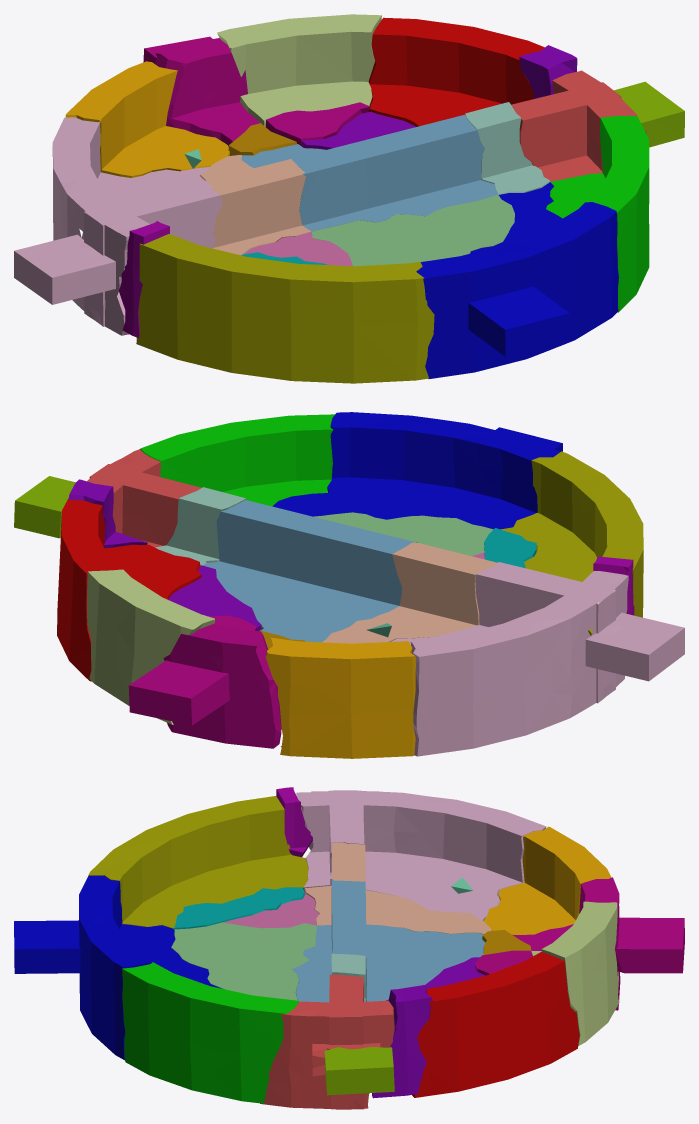
Rendered from fractured_66_23pcs.glb.
3 views of the same model, one above another, from view 1: azimuth 30°, elevation 25°; view 2: azimuth 150°, elevation 25°; view 3: azimuth 270°, elevation 25° (orthographic). The views are drawn at different scales.
Visible parts, largest first — view 1: piece_11.obj, piece_10.obj, piece_6.obj, piece_2.obj, piece_9.obj, piece_5.obj, piece_0.obj, piece_8.obj, piece_3.obj, piece_1.obj, piece_7.obj, piece_15.obj (+8 smaller); view 2: piece_6.obj, piece_10.obj, piece_2.obj, piece_0.obj, piece_15.obj, piece_8.obj, piece_11.obj, piece_5.obj, piece_9.obj, piece_7.obj, piece_1.obj, piece_3.obj (+6 smaller); view 3: piece_6.obj, piece_11.obj, piece_8.obj, piece_9.obj, piece_10.obj, piece_2.obj, piece_1.obj, piece_3.obj, piece_0.obj, piece_5.obj, piece_15.obj, piece_7.obj (+9 smaller).
Boxes of the visible parts, x1,y1,x2,y2 form: piece_11.obj: [136, 234, 434, 383]; piece_10.obj: [416, 182, 618, 379]; piece_6.obj: [14, 117, 222, 335]; piece_2.obj: [241, 114, 497, 231]; piece_9.obj: [368, 17, 544, 126]; piece_5.obj: [217, 14, 381, 126]; piece_0.obj: [65, 61, 229, 177]; piece_8.obj: [546, 115, 649, 312]; piece_3.obj: [312, 194, 514, 266]; piece_1.obj: [511, 70, 646, 181]; piece_7.obj: [200, 155, 311, 255]; piece_15.obj: [143, 36, 260, 145]; piece_6.obj: [391, 562, 684, 756]; piece_10.obj: [272, 412, 562, 529]; piece_2.obj: [203, 500, 417, 642]; piece_0.obj: [265, 637, 415, 758]; piece_15.obj: [128, 624, 281, 748]; piece_8.obj: [140, 414, 334, 506]; piece_11.obj: [500, 451, 643, 635]; piece_5.obj: [86, 569, 214, 724]; piece_9.obj: [57, 498, 201, 681]; piece_7.obj: [322, 542, 497, 643]; piece_1.obj: [87, 449, 201, 547]; piece_3.obj: [314, 512, 493, 556]; piece_6.obj: [296, 790, 546, 920]; piece_11.obj: [88, 796, 308, 928]; piece_8.obj: [122, 962, 298, 1103]; piece_9.obj: [412, 952, 579, 1097]; piece_10.obj: [14, 875, 221, 1060]; piece_2.obj: [292, 879, 485, 1002]; piece_1.obj: [260, 974, 394, 1109]; piece_3.obj: [171, 922, 316, 1000]; piece_0.obj: [483, 826, 611, 934]; piece_5.obj: [531, 901, 619, 1045]; piece_15.obj: [512, 877, 684, 1010]; piece_7.obj: [305, 842, 491, 934].
Bounding box in the file's own units: 1 × 0.1796 × 1.
